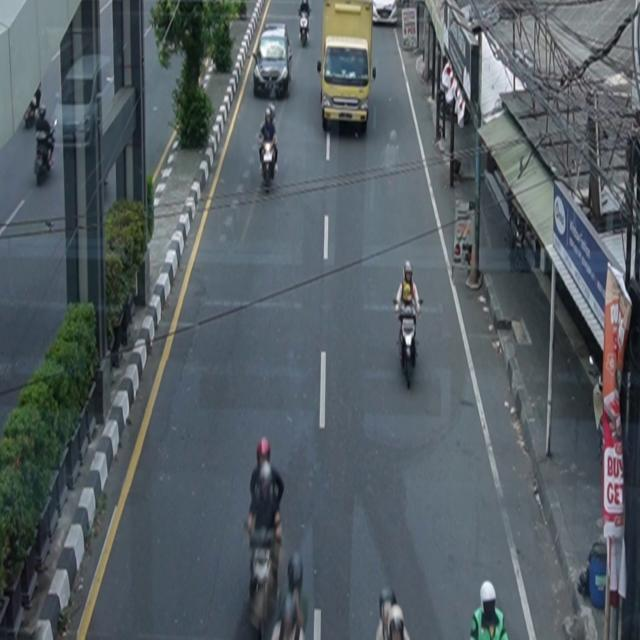car: (54, 54, 115, 149), (253, 23, 293, 100)
truck: (318, 1, 377, 137)
